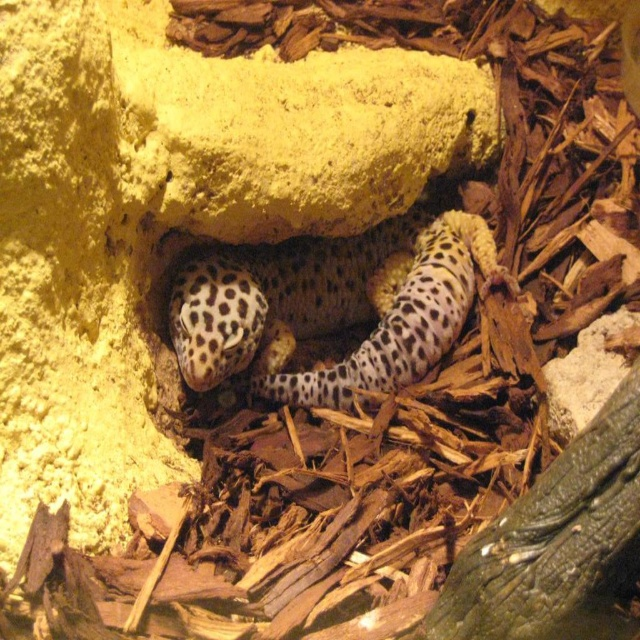Lizard: (146, 227, 544, 476)
